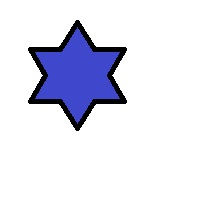star: (27, 20, 128, 131)
